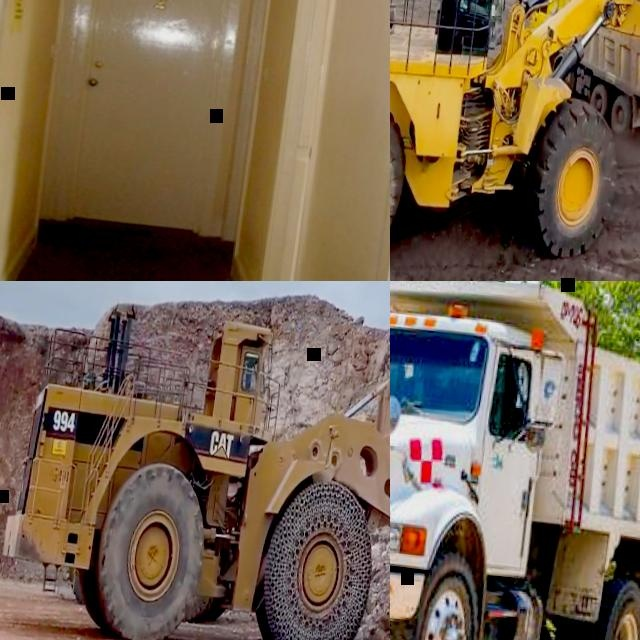Person: (240, 364, 248, 391)
machinery: (0, 281, 390, 640), (390, 281, 640, 640), (390, 0, 640, 281), (521, 0, 640, 149)
